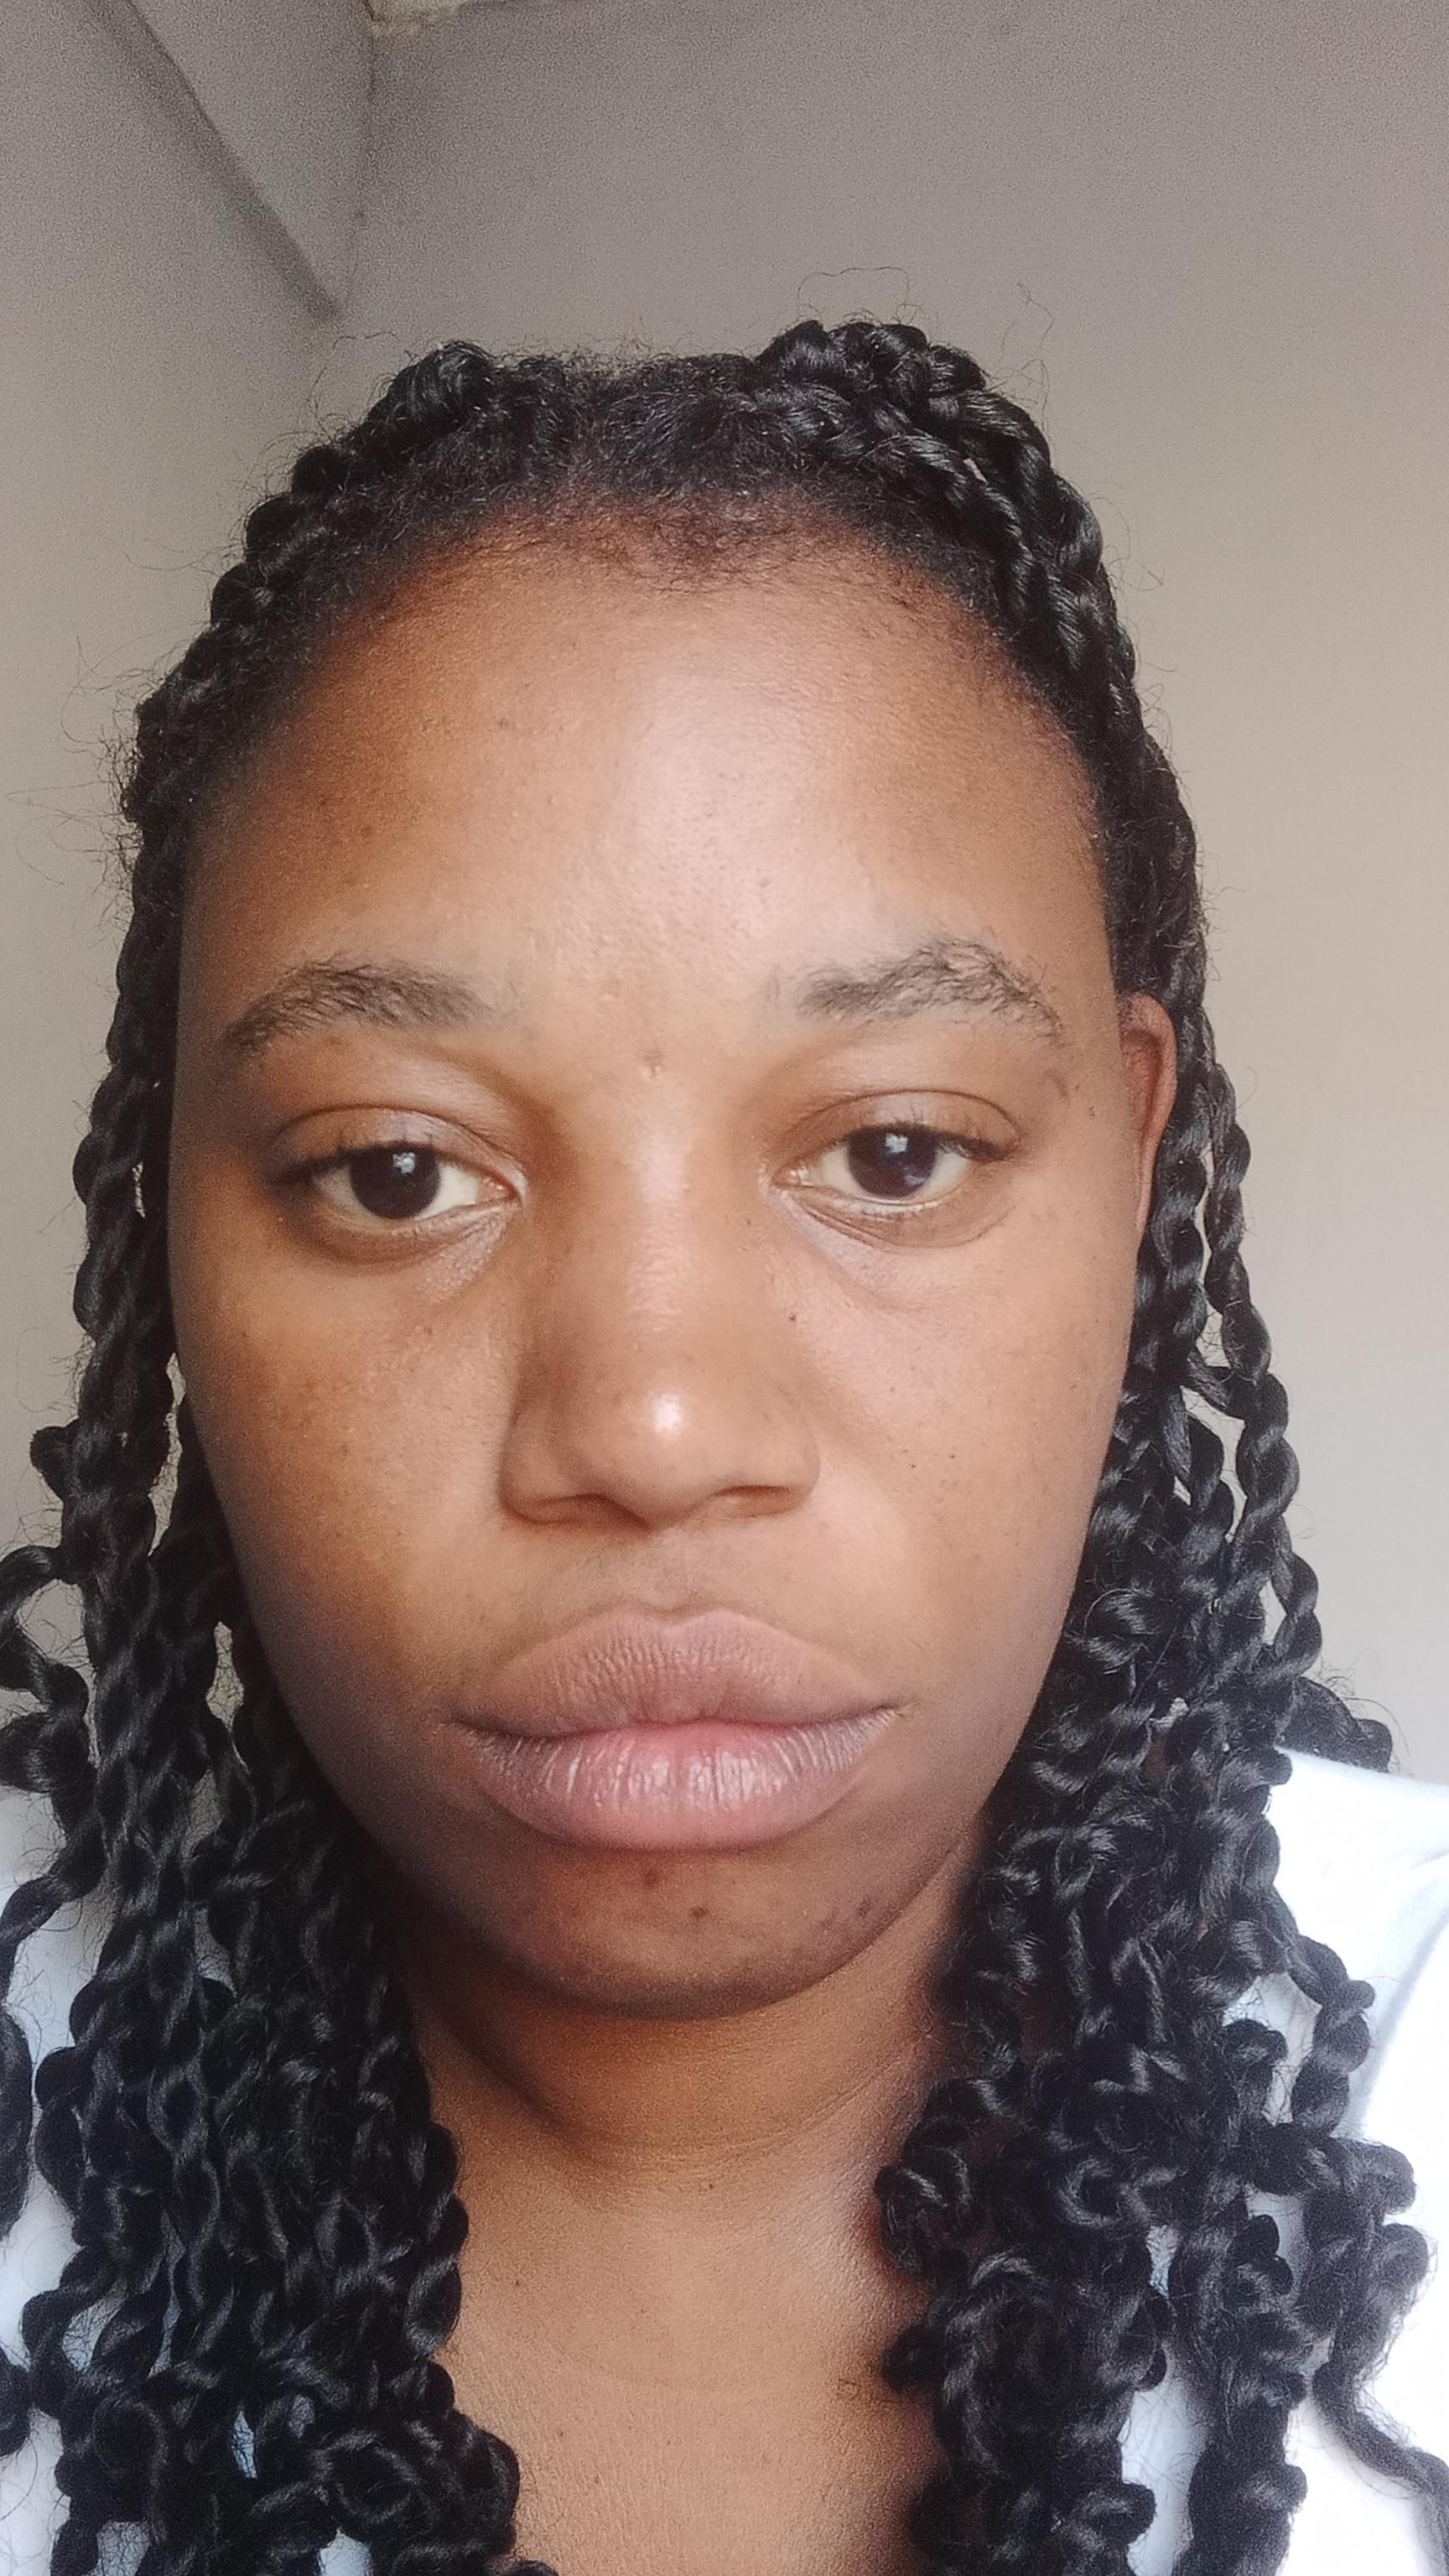Acne: (267, 1343, 430, 1417)
Blackheads: (568, 869, 752, 993), (876, 1430, 975, 1479)
Eyebags: (757, 1173, 1042, 1313), (271, 1194, 529, 1304)
